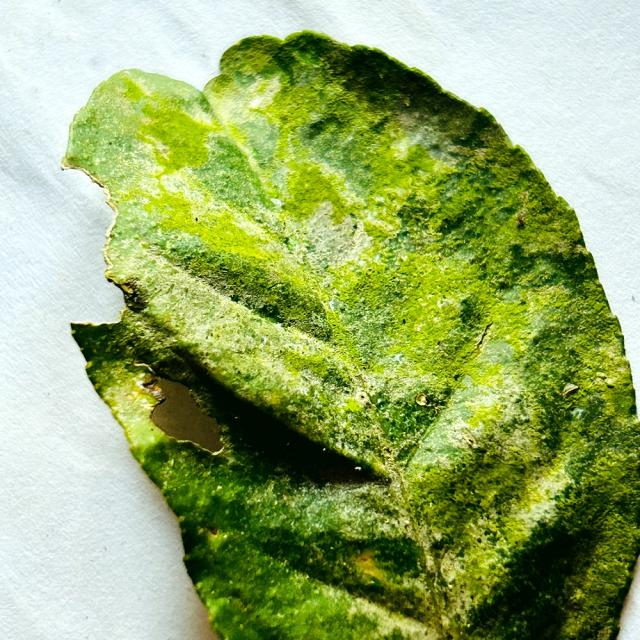Deficiency Leaf: (135, 360, 284, 474), (36, 169, 124, 329), (128, 33, 237, 90)
Lemon: (62, 30, 639, 639)
